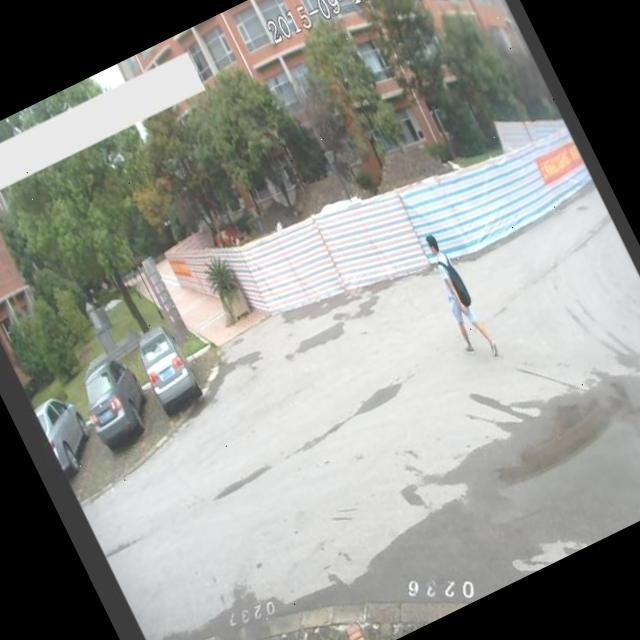person: (410, 225, 504, 372)
